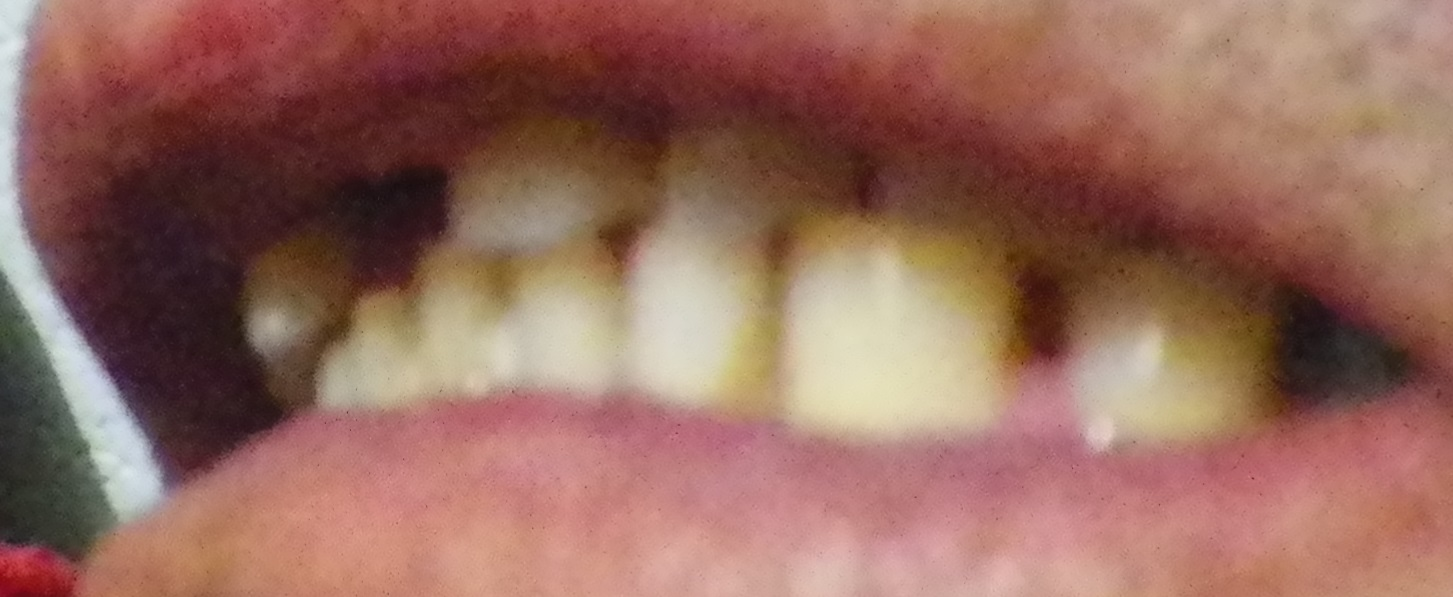boca: (256, 128, 1228, 437)
